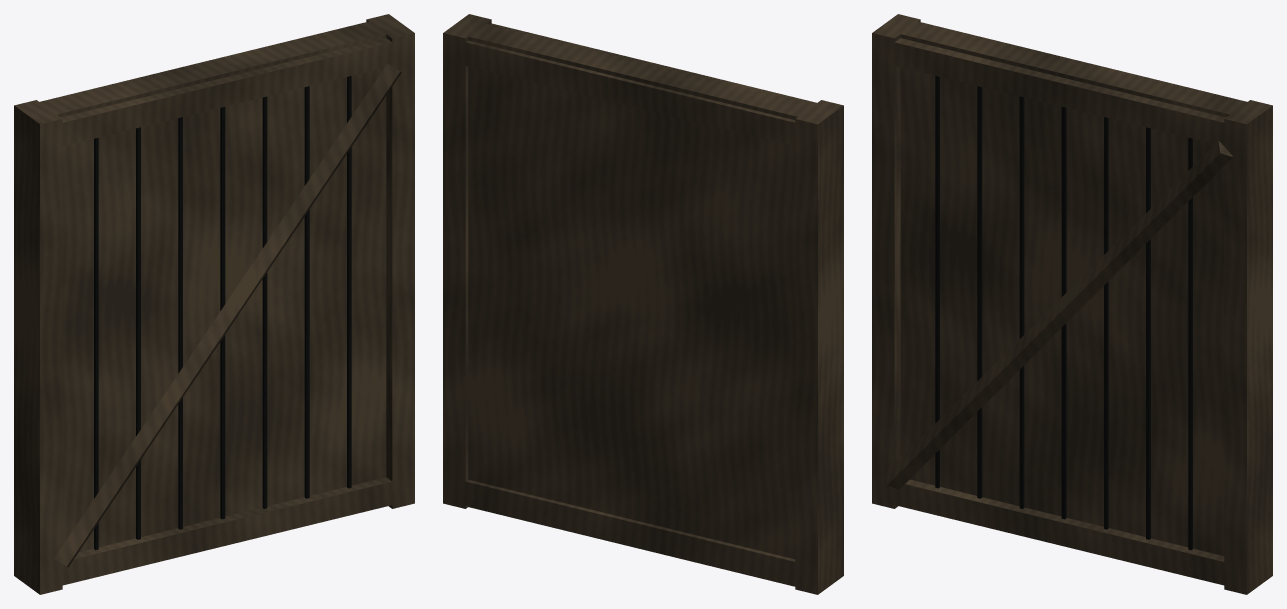
The model's file is Wall_Timber_2m.glb.
The picture shows the model from 3 angles, left to right: view 1: azimuth 30°, elevation 25°; view 2: azimuth 150°, elevation 25°; view 3: azimuth 330°, elevation 25°; orthographic projection.
Parts seen in each view (by area): view 1: Wall_Timber_2m; view 2: Wall_Timber_2m; view 3: Wall_Timber_2m.
Boxes of the visible parts, box(x1,y1,x2,y2) form: Wall_Timber_2m: box(14, 14, 414, 594); Wall_Timber_2m: box(443, 14, 843, 594); Wall_Timber_2m: box(872, 14, 1272, 594).
Bounding box in the file's own units: 2 × 2.4 × 0.295.
Materials: 2 (2 with a texture image).
